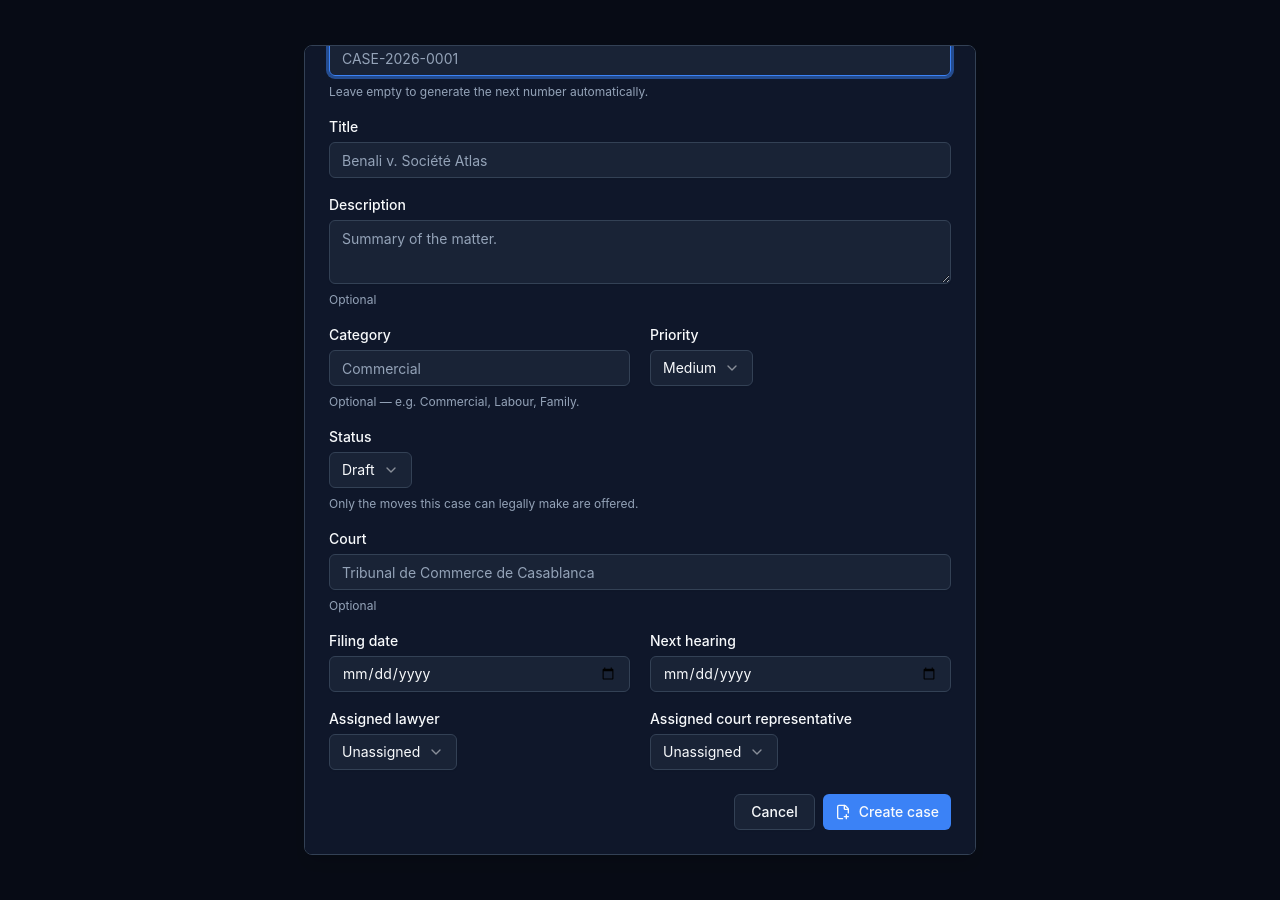
Test: CreateCaseDialog › shows a validation error and sends nothing when the title is blank
(page scrolled)
Click the button "Create case": [887, 812] box [823,794,951,830]
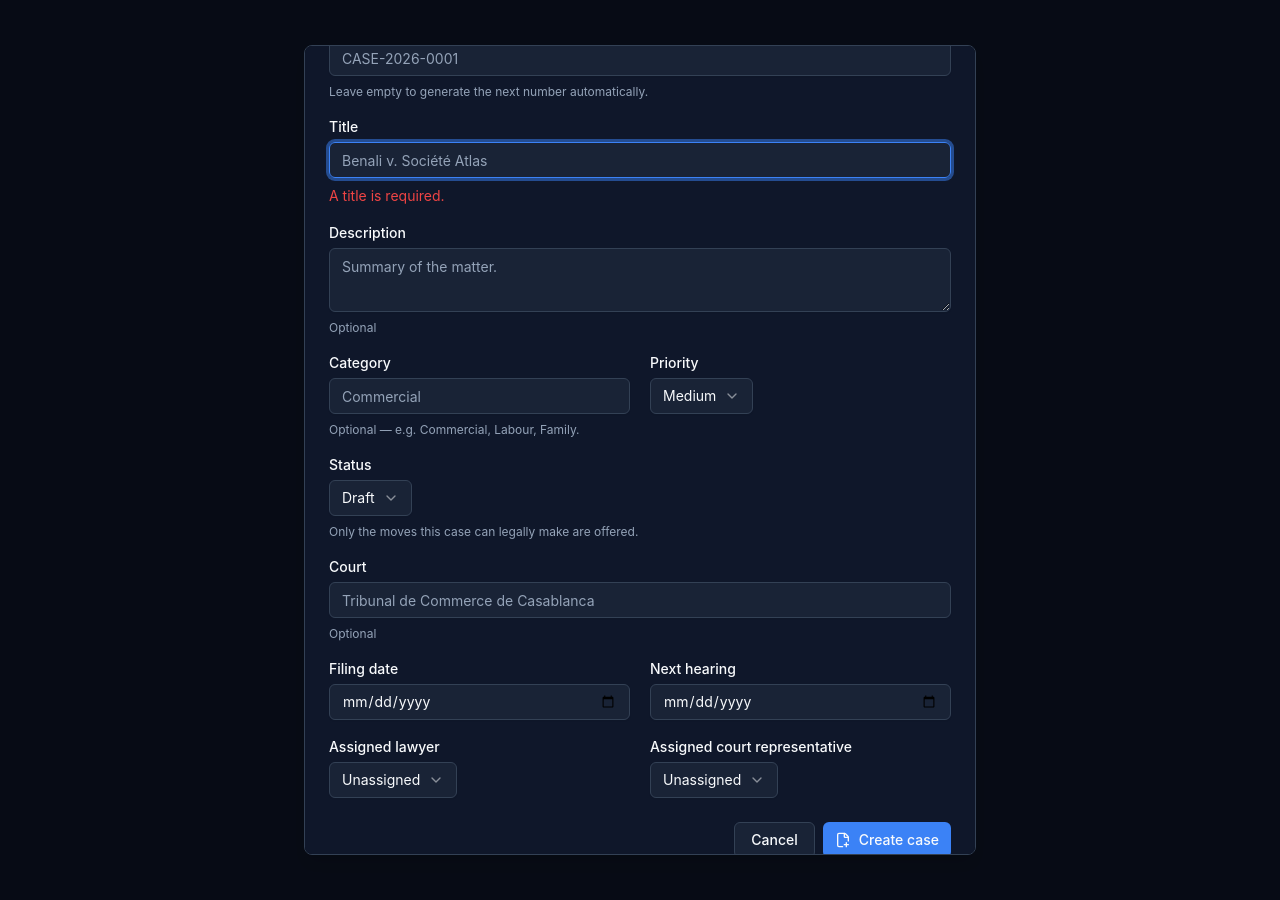
Result: the text "A title is required." is shown at [329,187,445,204]
